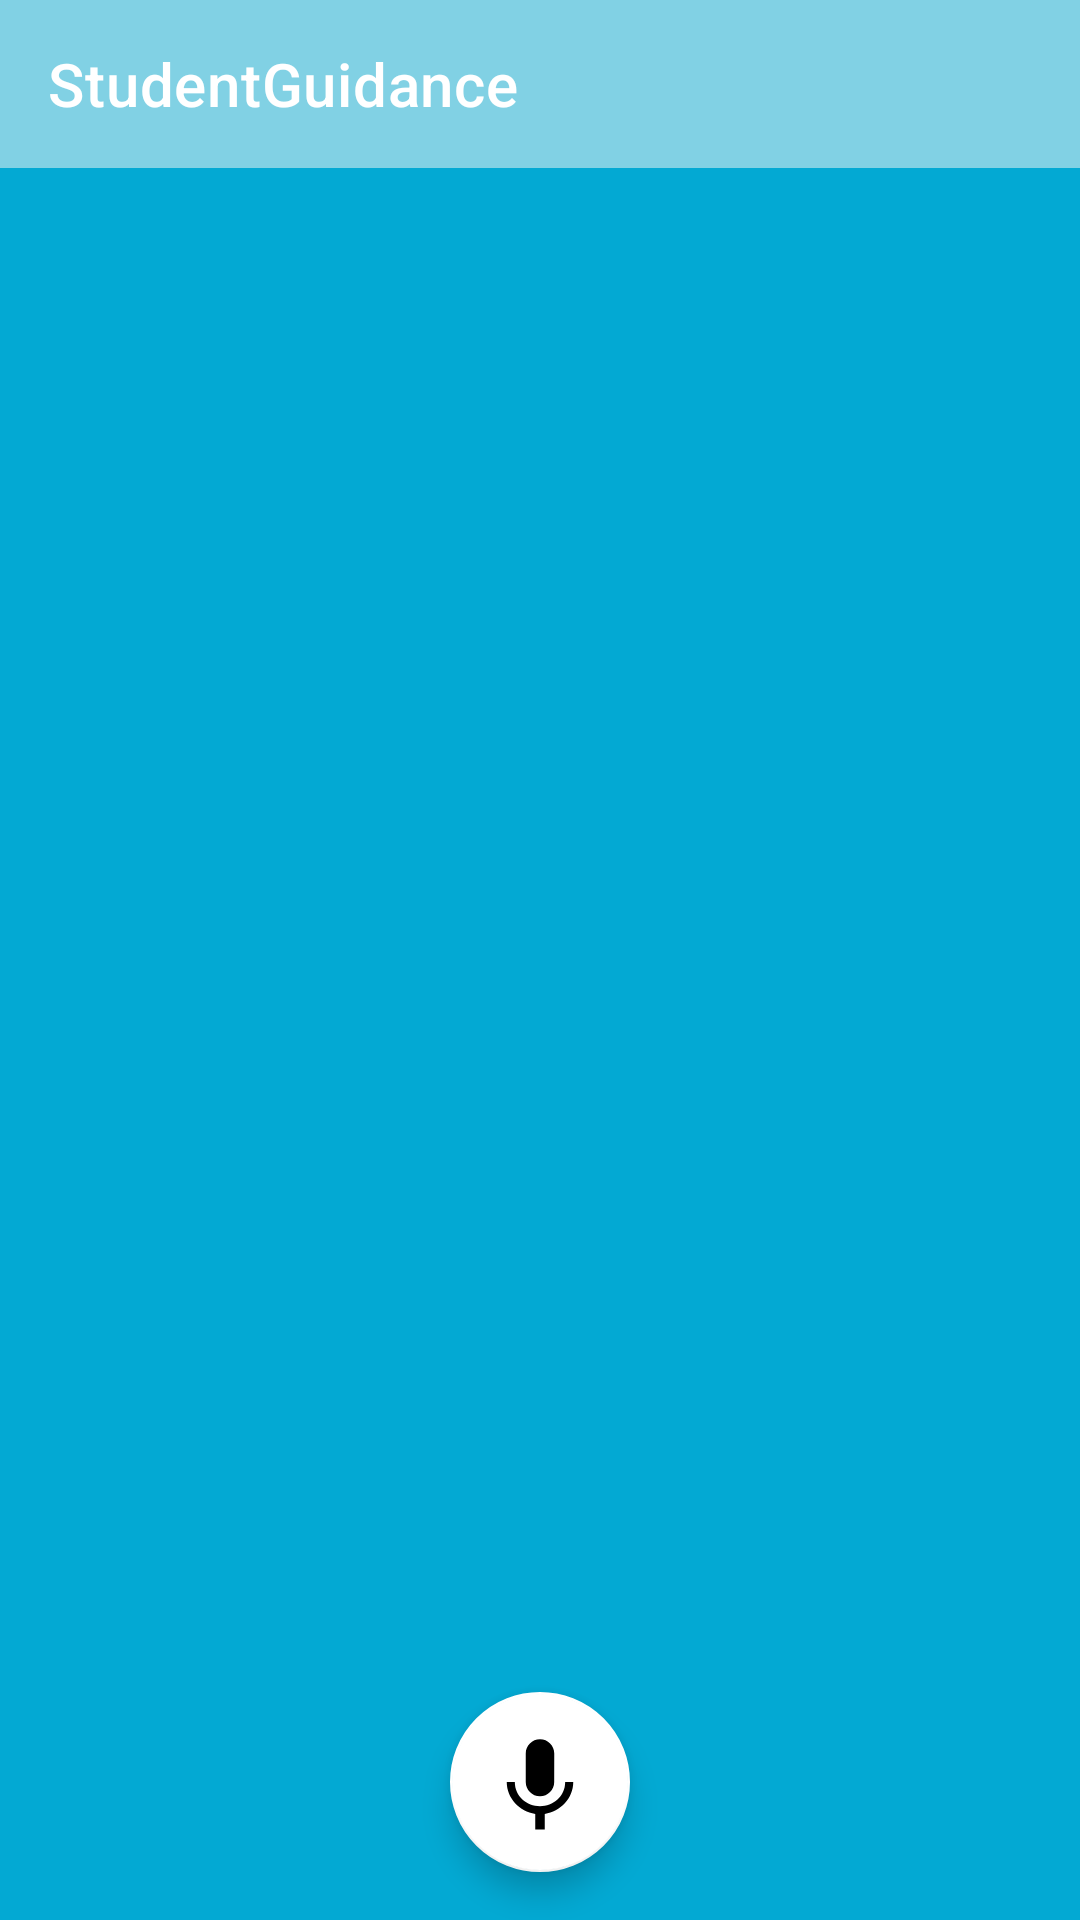

Screen size 1080w x 1920h. Icon name, then its center in pixels as point (x, y):
microphone: point (540, 1782)
